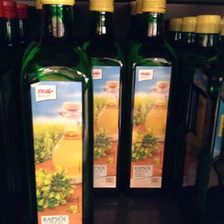oil: (20, 1, 93, 224), (126, 1, 180, 194), (82, 1, 127, 195)
